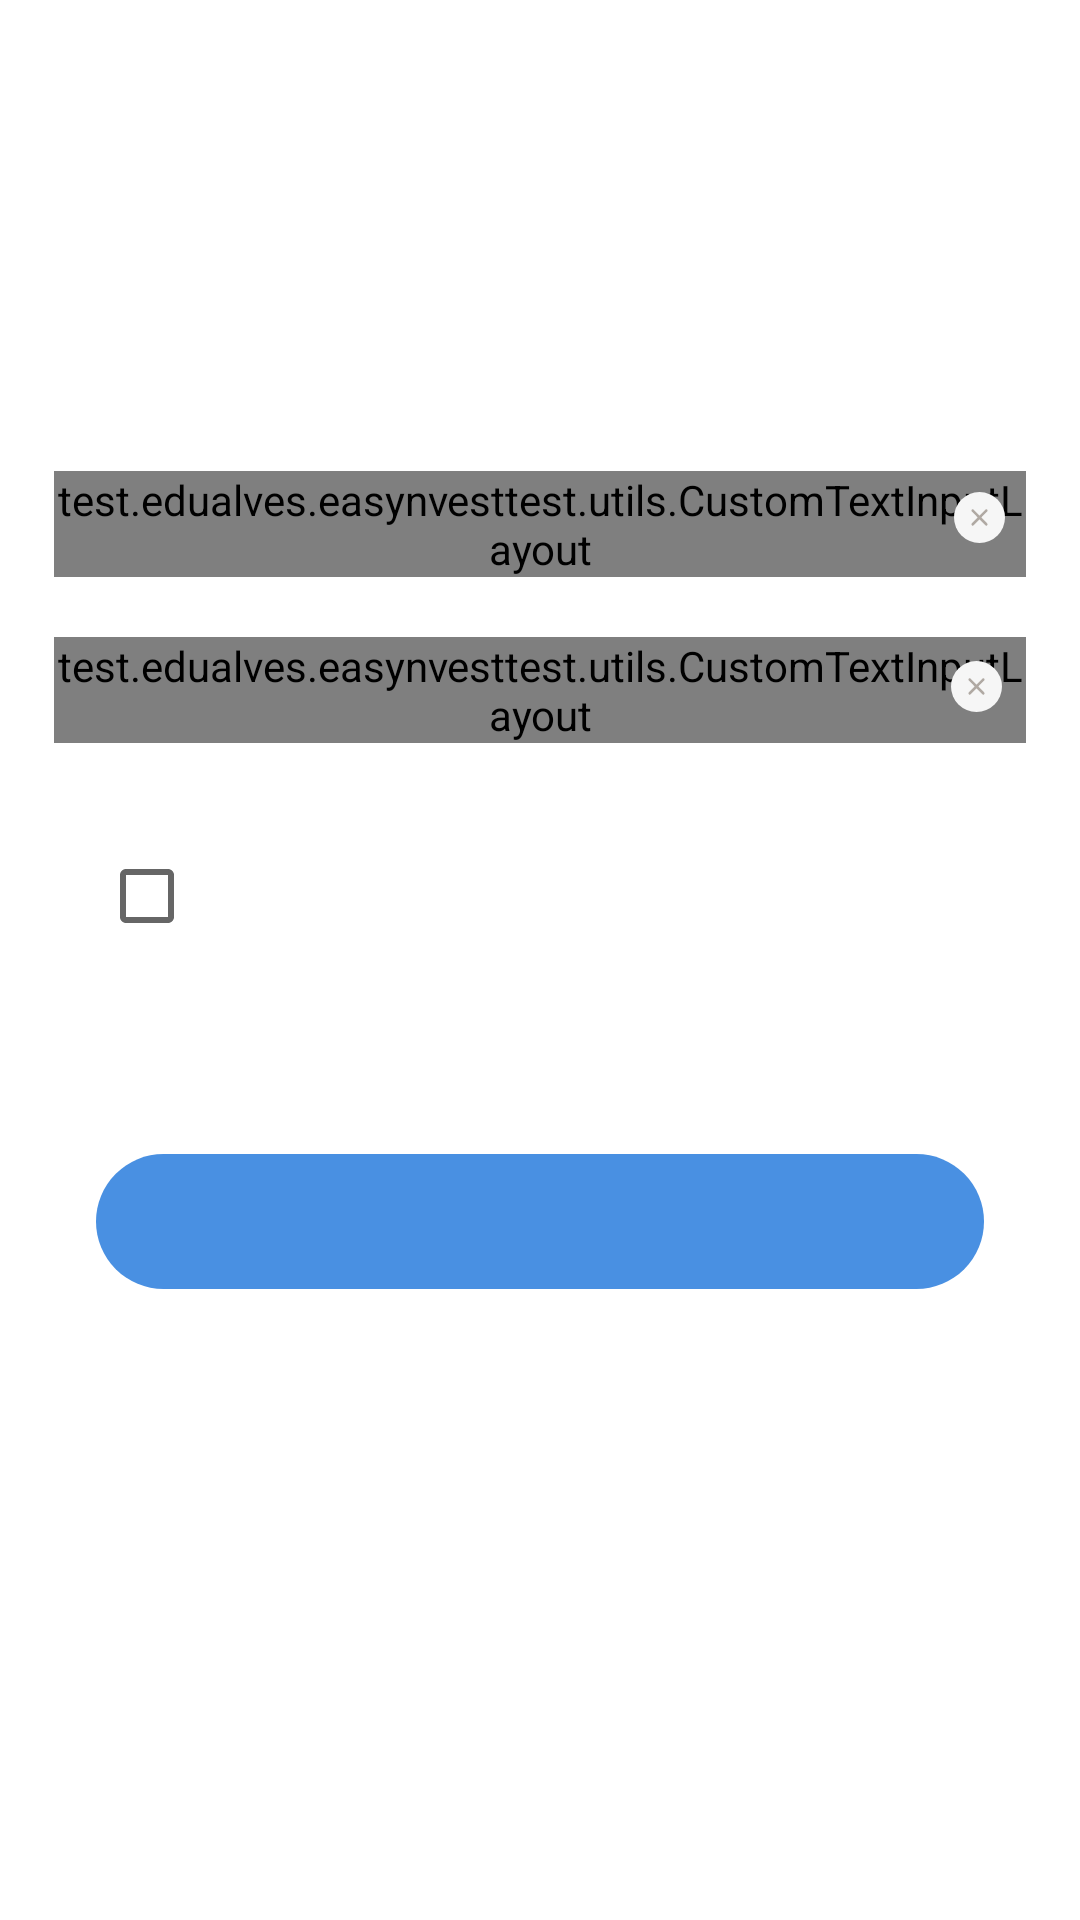

Where icons sit on this 1080 × 1920 app screen, as (x1, y1, x2, y2):
limpar: (954, 492, 1005, 543), (951, 661, 1002, 712)
